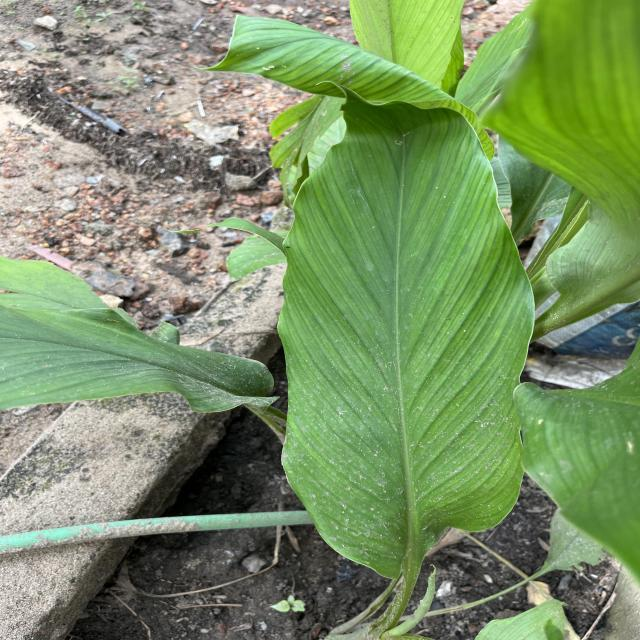Curcuma longa: (274, 77, 539, 584)
